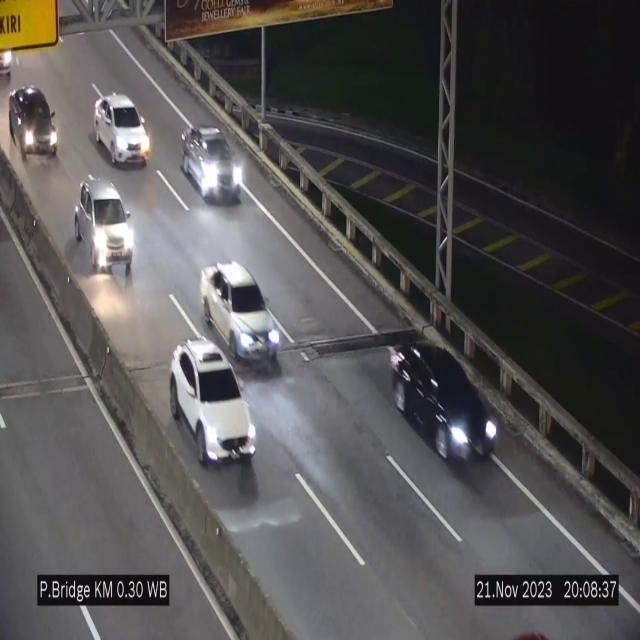Car: (388, 336, 500, 470), (170, 338, 256, 463), (200, 263, 281, 364), (72, 178, 138, 274), (182, 127, 244, 201), (6, 80, 60, 163), (94, 94, 151, 166)
